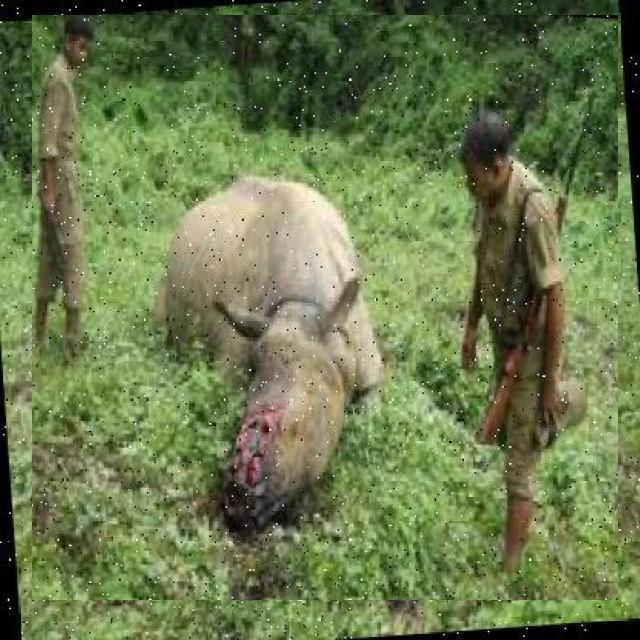p_collect: (234, 138, 515, 550)
p_export: (32, 15, 618, 600)
poacher: (71, 104, 203, 556), (551, 8, 614, 357)
weapon: (41, 86, 132, 432)
